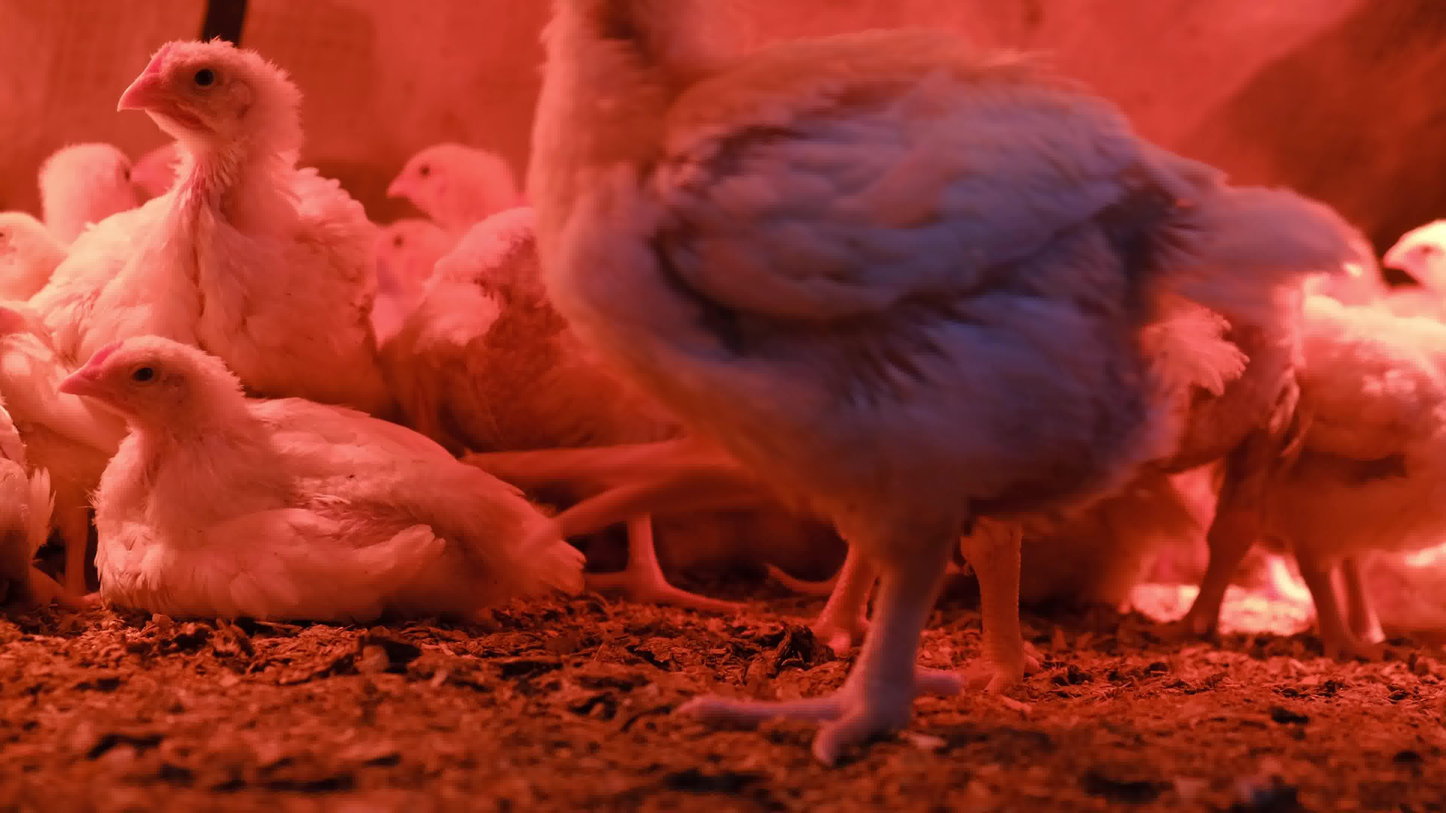AbNormal: (57, 335, 584, 623), (0, 301, 52, 622)
Normal: (533, 0, 1353, 760), (31, 38, 381, 420), (377, 226, 706, 604), (1161, 291, 1446, 655), (0, 209, 111, 620), (378, 136, 521, 228), (37, 136, 134, 247), (1375, 219, 1446, 291)
